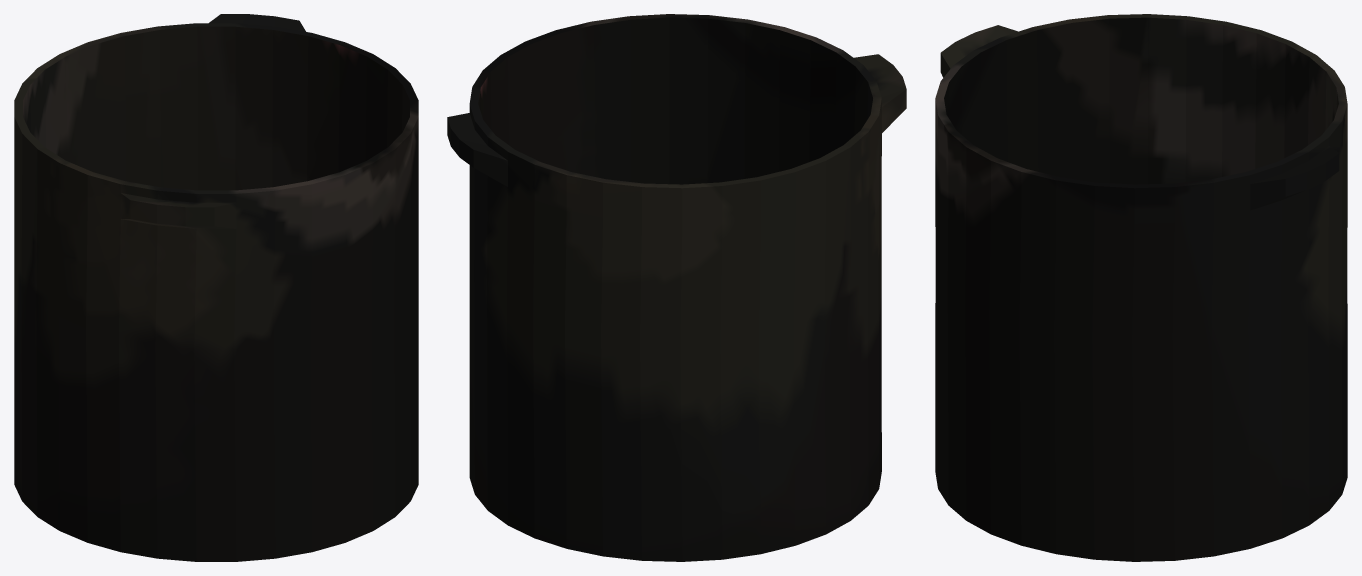
Rendered from SM_Cpot1.fbx.
The picture shows the model from 3 angles, left to right: view 1: azimuth 30°, elevation 25°; view 2: azimuth 150°, elevation 25°; view 3: azimuth 270°, elevation 25°; orthographic projection.
Parts seen in each view (by area): view 1: SM_pot.004; view 2: SM_pot.004; view 3: SM_pot.004.
Boxes of the visible parts, bbox=[...] form: SM_pot.004: bbox=[14, 14, 418, 561]; SM_pot.004: bbox=[447, 14, 906, 561]; SM_pot.004: bbox=[935, 14, 1347, 561].
Bounding box in the file's own units: 29.3 × 29.31 × 29.3.
